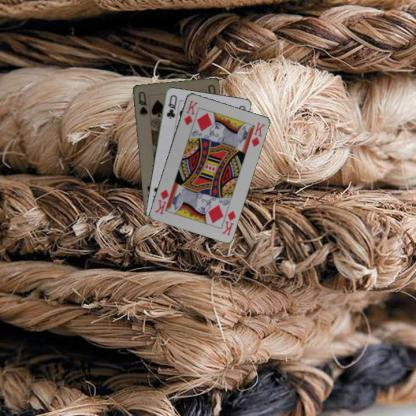Kd: (181, 98, 199, 126), (219, 208, 237, 236)
Qc: (163, 92, 178, 119)
Qs: (136, 89, 148, 117)
